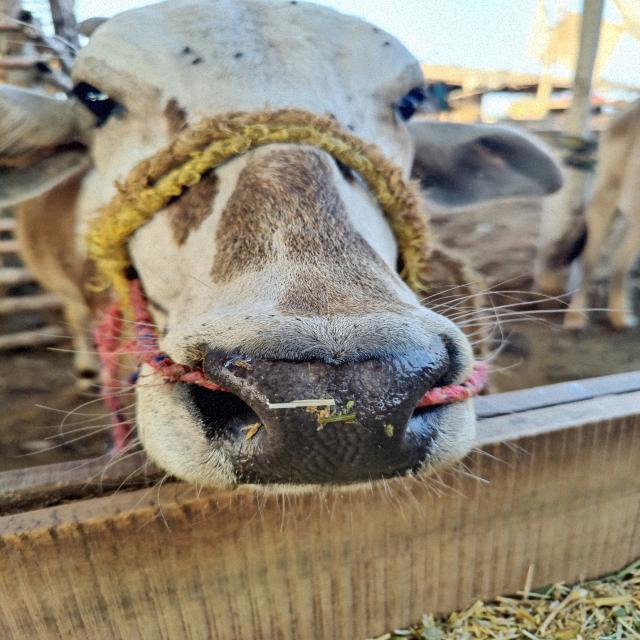muzzles: (178, 336, 480, 484)
